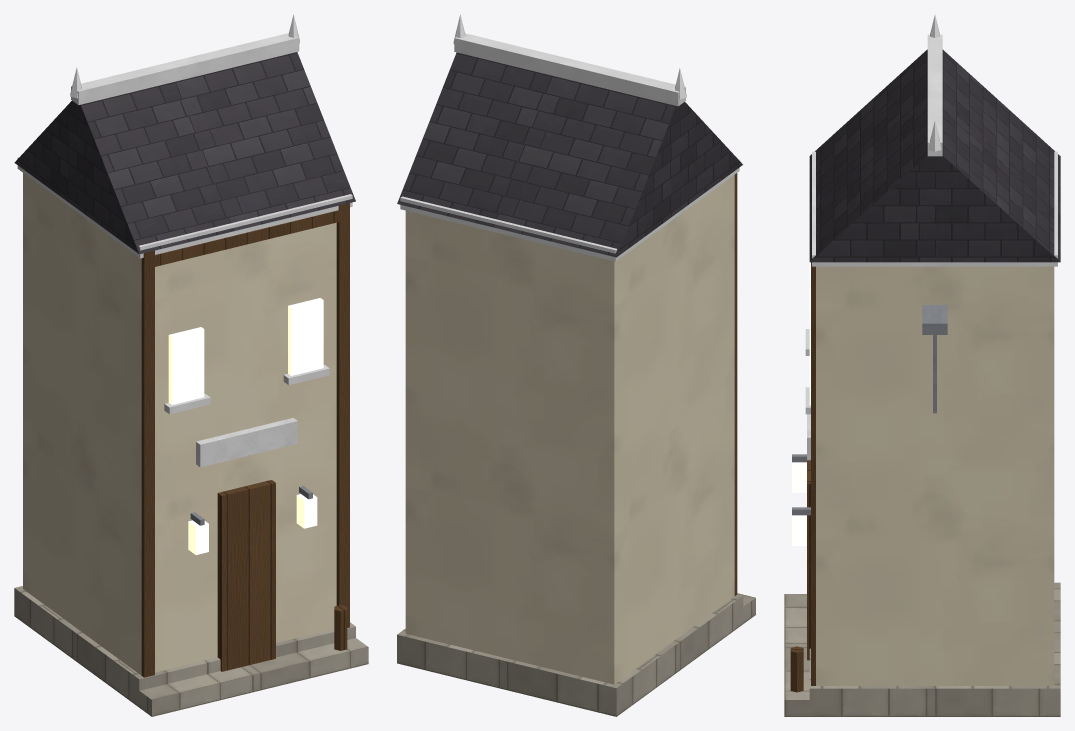
The model's file is category.bridge.t6.glb.
3 renders of one model, left to right at view 1: azimuth 30°, elevation 25°; view 2: azimuth 150°, elevation 25°; view 3: azimuth 270°, elevation 25°, orthographic.
Parts seen in each view (by area): view 1: building.category.bridge.t6; view 2: building.category.bridge.t6; view 3: building.category.bridge.t6.
Part boxes in pixels (<box>): building.category.bridge.t6: <box>14,14,368,716</box>; building.category.bridge.t6: <box>397,14,755,716</box>; building.category.bridge.t6: <box>784,14,1060,716</box>.
Size of the model in its own units: 2.36 by 5.25 by 2.2.
8 materials, 7 textured.
